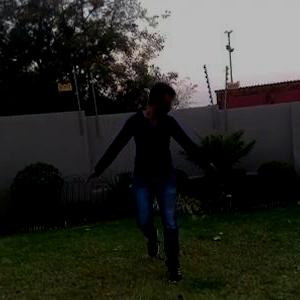land: (80, 75, 222, 294)
